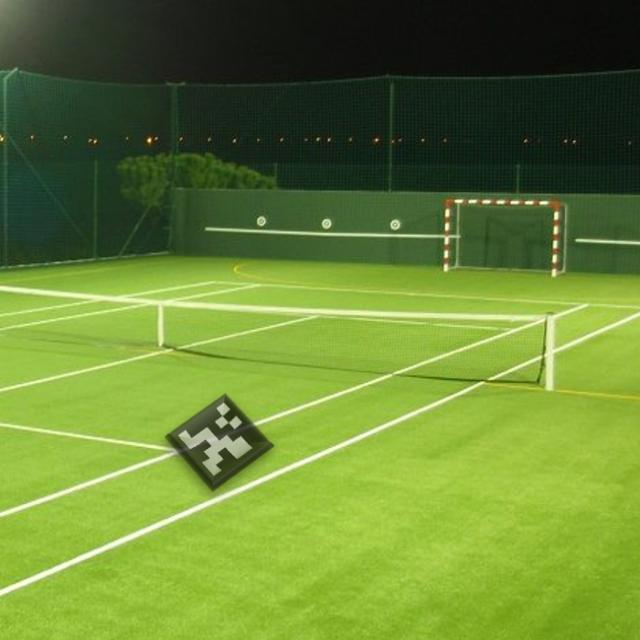marker: (165, 387, 282, 500)
